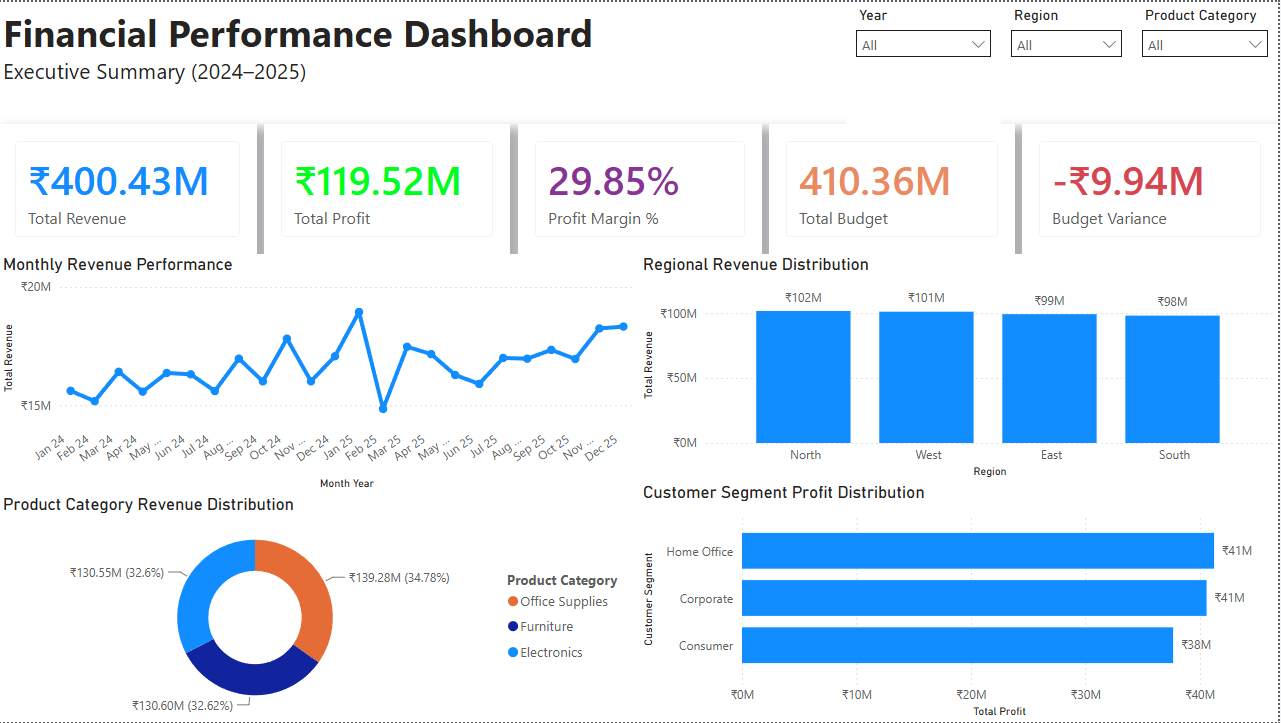

The page's visual inventory and layout, read from the dashboard file:
{"tool":"powerbi","page":{"name":"Executive Summary","canvas":[1280,720],"ordinal":0},"visuals":[{"type":"textbox","box":[0,0,848,122],"z":0},{"type":"slicer","fields":{"Values":["FactFinancial.Region"]},"box":[1003,0,131,122],"z":1000},{"type":"slicer","fields":{"Values":["FactFinancial.Product Category"]},"box":[1134,0,146,122],"z":2000},{"type":"cardVisual","fields":{"Data":["Measure Table.Total Revenue"]},"box":[0,122,259,130],"z":3000},{"type":"cardVisual","fields":{"Data":["Measure Table.Total Profit"]},"box":[266.2,122,246,130],"z":4000},{"type":"cardVisual","fields":{"Data":["Measure Table.Profit Margin %"]},"box":[519.5,122,244,130],"z":5000},{"type":"cardVisual","fields":{"Data":["Measure Table.Total Budget"]},"box":[770.8,122,246,130],"z":6000},{"type":"cardVisual","fields":{"Data":["Measure Table.Budget Variance"]},"box":[1024,122,256,130],"z":7000},{"type":"lineChart","title":"Monthly Revenue Performance","fields":{"Category":["DimDate.Month Year"],"Y":["Measure Table.Total Revenue"]},"box":[0,252,640,240],"z":8000},{"type":"clusteredColumnChart","title":"Regional Revenue Distribution","fields":{"Category":["FactFinancial.Region"],"Y":["Measure Table.Total Revenue"]},"box":[640,252,640,228],"z":9000},{"type":"donutChart","title":"Product Category Revenue Distribution","fields":{"Category":["FactFinancial.Product Category"],"Y":["Measure Table.Total Revenue"]},"box":[0,492,640,228],"z":10000},{"type":"barChart","title":"Customer Segment Profit Distribution","fields":{"Category":["FactFinancial.Customer Segment"],"Y":["Measure Table.Total Profit"]},"box":[640,480,640,240],"z":11000},{"type":"slicer","fields":{"Values":["DimDate.Year"]},"box":[848,0,155,122],"z":12000}]}

Visuals, with their boxes in screenshot pixels (x1, y1, x2, y2), scaled from the page's 1280x720 canvas onto the 1281x723 screenshot:
textbox: [x1=0, y1=0, x2=849, y2=123]
slicer - FactFinancial.Region: [x1=1004, y1=0, x2=1135, y2=123]
slicer - FactFinancial.Product Category: [x1=1135, y1=0, x2=1280, y2=123]
cardVisual - Measure Table.Total Revenue: [x1=0, y1=123, x2=259, y2=253]
cardVisual - Measure Table.Total Profit: [x1=266, y1=123, x2=513, y2=253]
cardVisual - Measure Table.Profit Margin %: [x1=520, y1=123, x2=764, y2=253]
cardVisual - Measure Table.Total Budget: [x1=771, y1=123, x2=1018, y2=253]
cardVisual - Measure Table.Budget Variance: [x1=1025, y1=123, x2=1280, y2=253]
"Monthly Revenue Performance" lineChart: [x1=0, y1=253, x2=640, y2=494]
"Regional Revenue Distribution" clusteredColumnChart: [x1=640, y1=253, x2=1280, y2=482]
"Product Category Revenue Distribution" donutChart: [x1=0, y1=494, x2=640, y2=722]
"Customer Segment Profit Distribution" barChart: [x1=640, y1=482, x2=1280, y2=722]
slicer - DimDate.Year: [x1=849, y1=0, x2=1004, y2=123]
